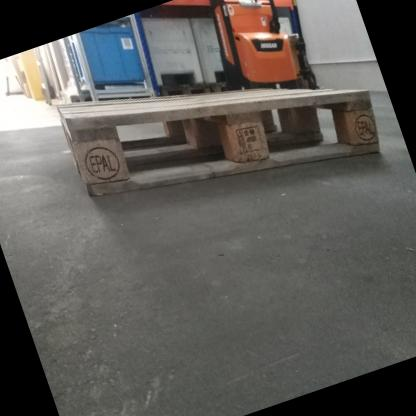BoxFace: (53, 82, 386, 202)
